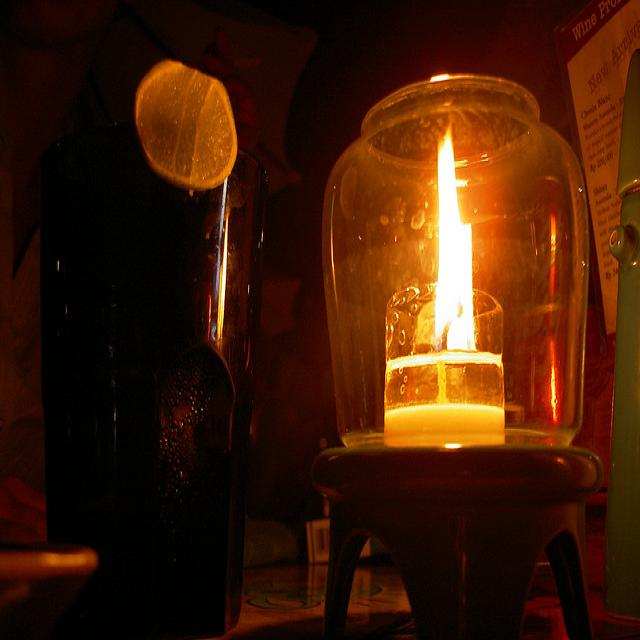Cup: (49, 78, 250, 640)
